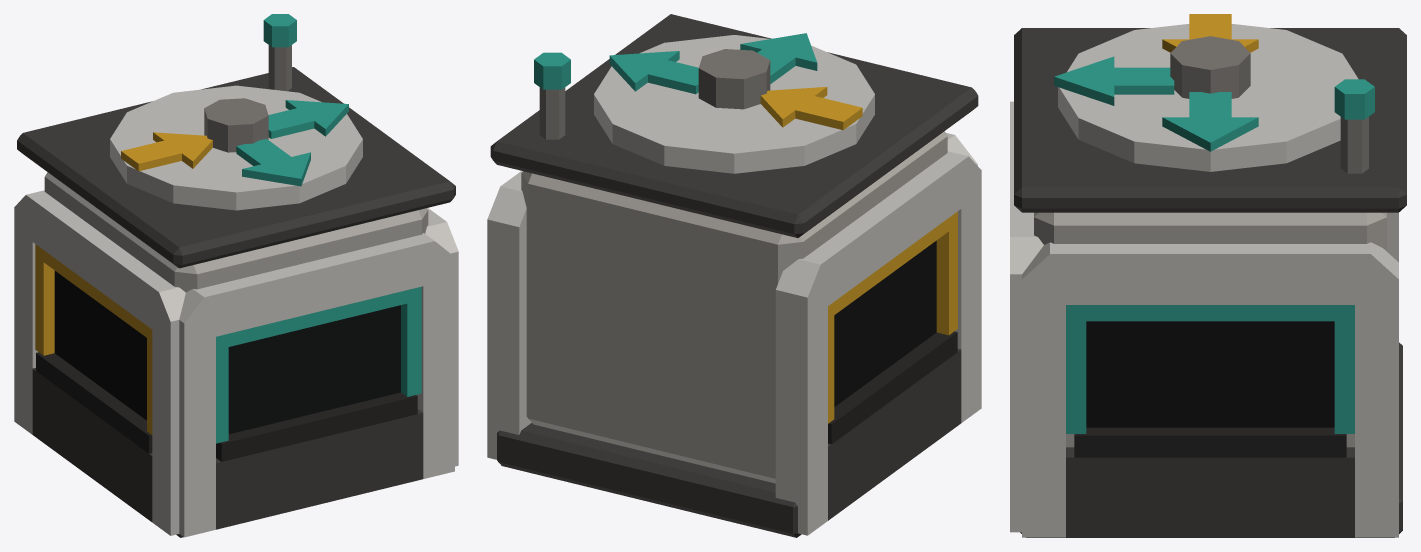
Rendered from splitter.fbx.
3 renders of one model, left to right at view 1: azimuth 30°, elevation 25°; view 2: azimuth 150°, elevation 25°; view 3: azimuth 270°, elevation 25°, orthographic. The views are drawn at different scales.
Parts seen in each view (by area): view 1: splitter; view 2: splitter; view 3: splitter.
Part boxes in pixels (box(x1,y1,x2,y2)): splitter: box(14, 14, 458, 537); splitter: box(487, 14, 981, 537); splitter: box(1010, 14, 1406, 537).
Bounding box in the file's own units: 3 × 3.58 × 2.97.
